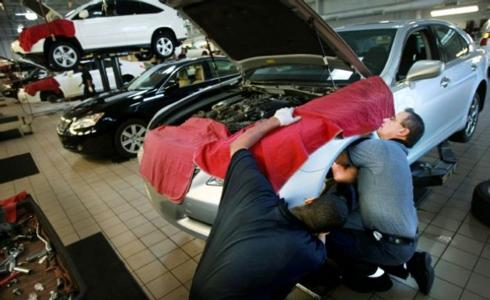person: (311, 108, 439, 294)
